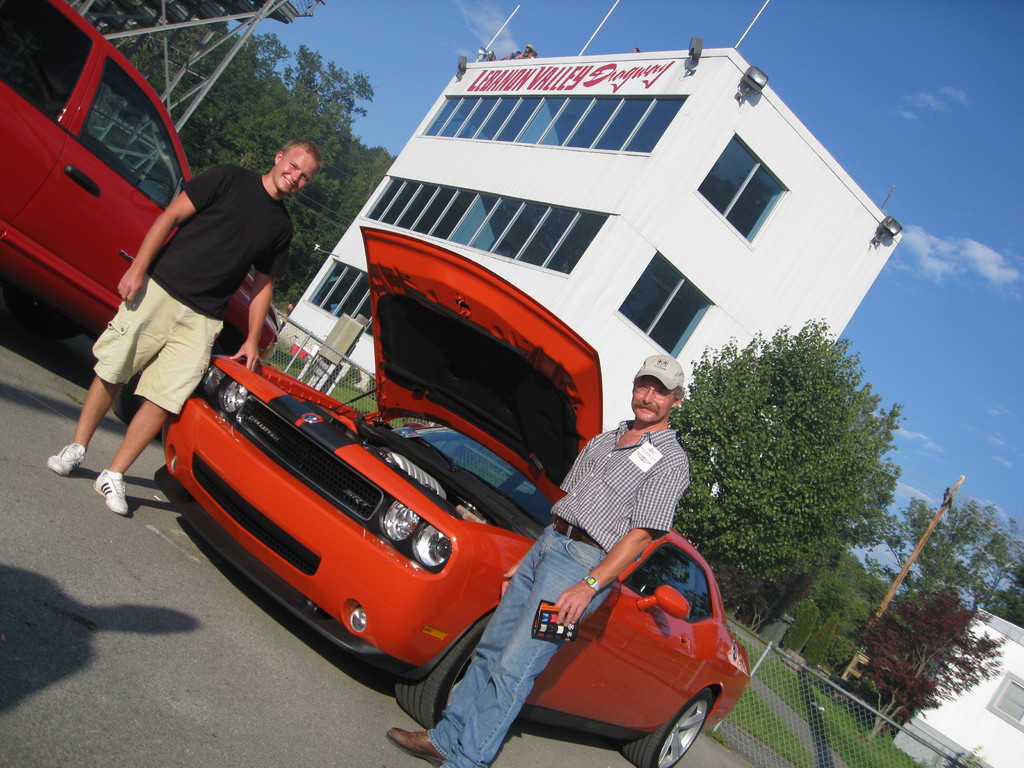mobil: (169, 287, 747, 760)
